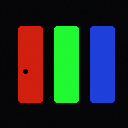0 point: (23, 69, 27, 73)
